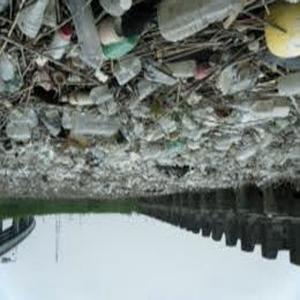Plastic: (156, 0, 233, 43), (62, 113, 122, 136)
